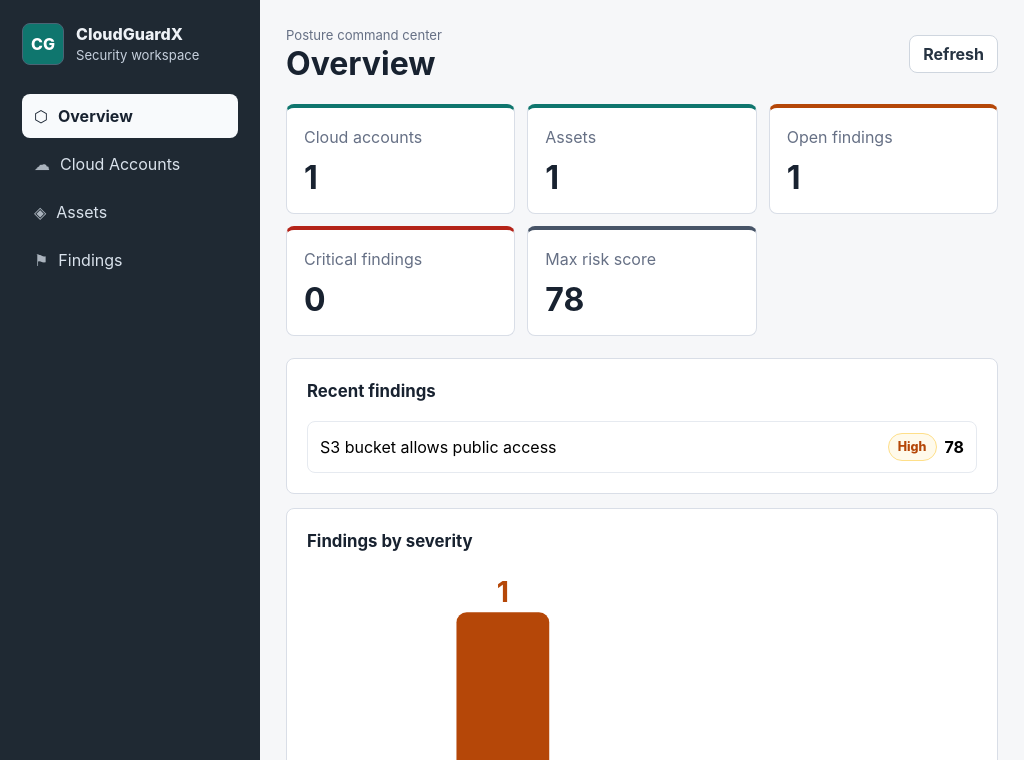
Test: App › removes updated findings from the filtered list when the new status no longer matches
Step 1. Click the link "⚑ Findings" → (78, 260), box [34, 250, 122, 270]
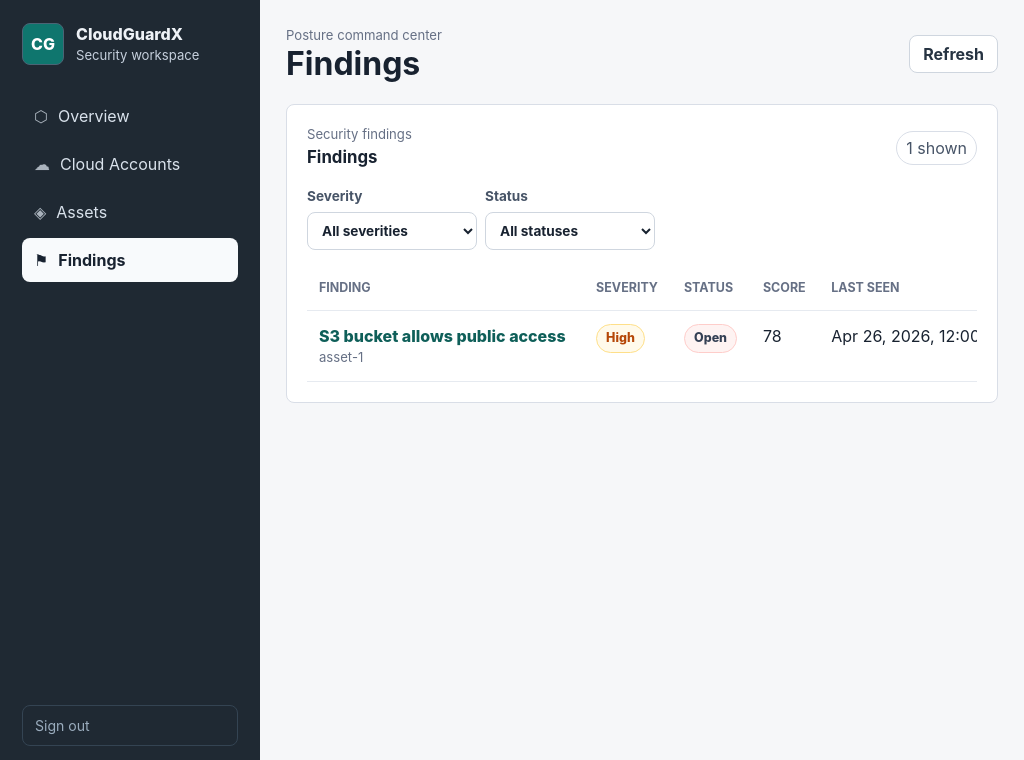
Step 2. Select "Open" in the dropdown labelled "Status" → (570, 231), box [485, 212, 655, 250]
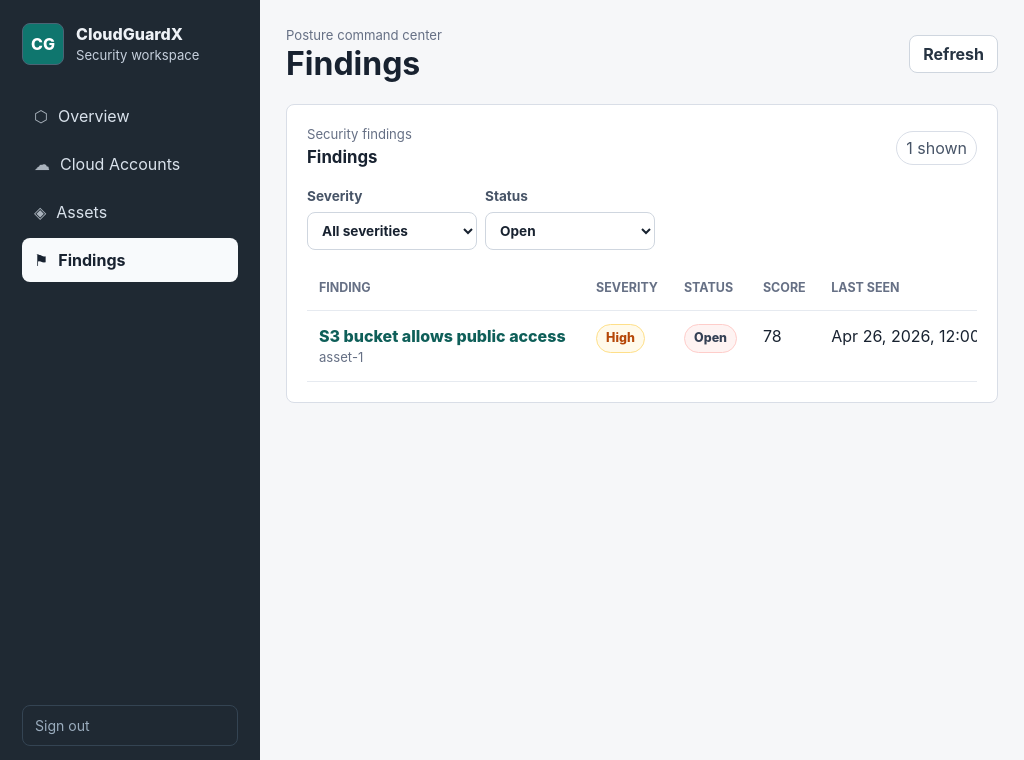
Step 3. Click the button "S3 bucket allows public access" → (442, 336), box [319, 324, 566, 348]
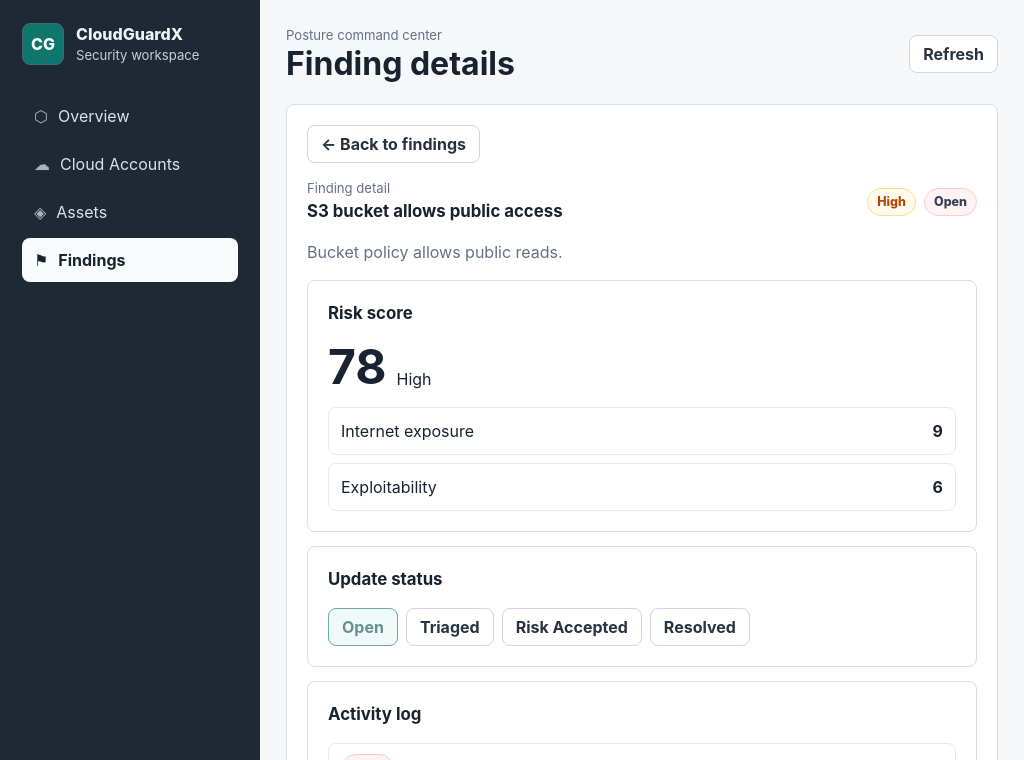
Step 4. Click the button "Triaged" → (450, 627), box [406, 608, 494, 646]
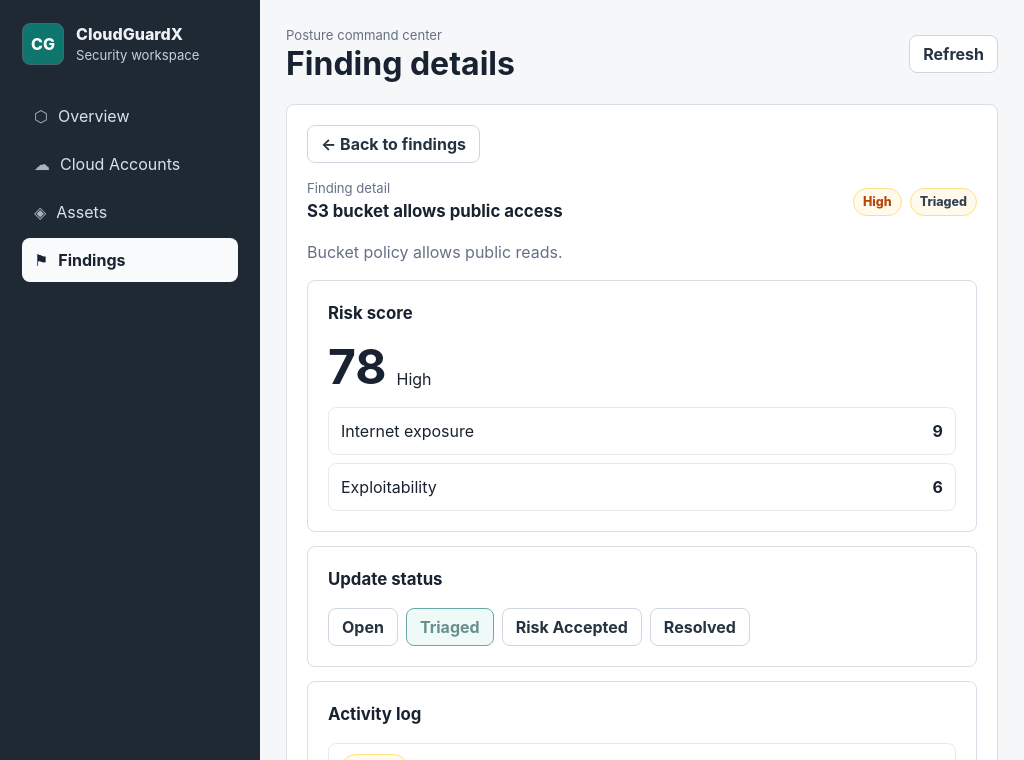
Check: the button "Triaged" is shown, box [406, 608, 494, 646]
Step 5. Click the button "← Back to findings" → (394, 144), box [307, 126, 480, 164]
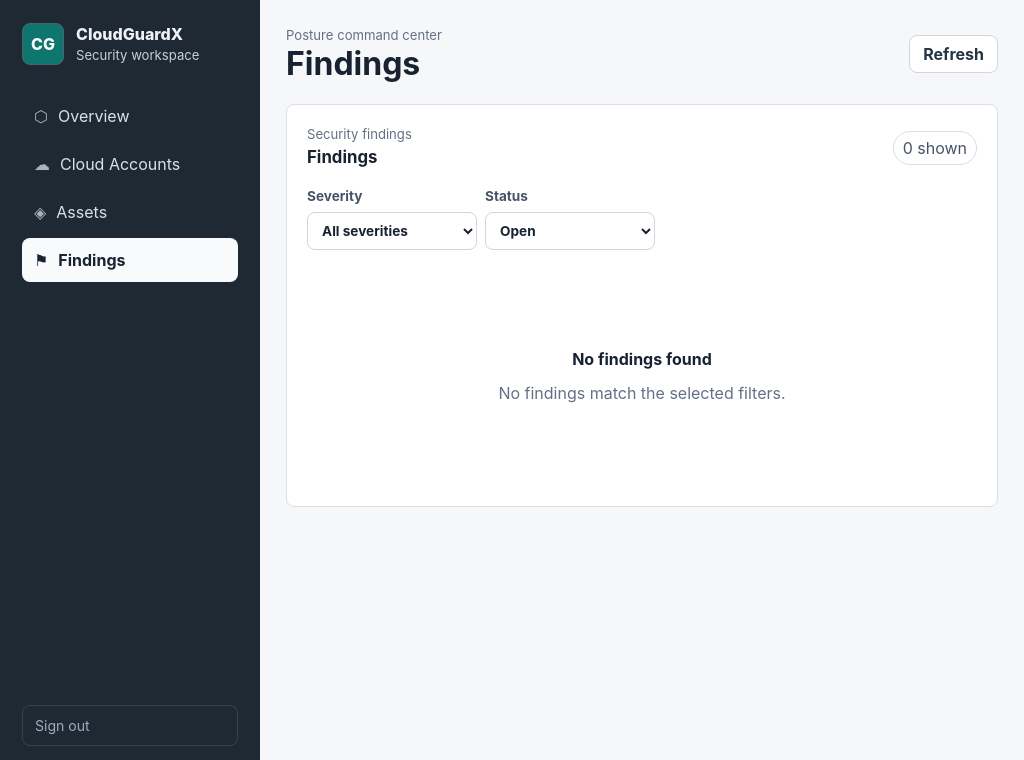
Check: the text "No findings match the selected filters." is shown, box [498, 381, 786, 405]
